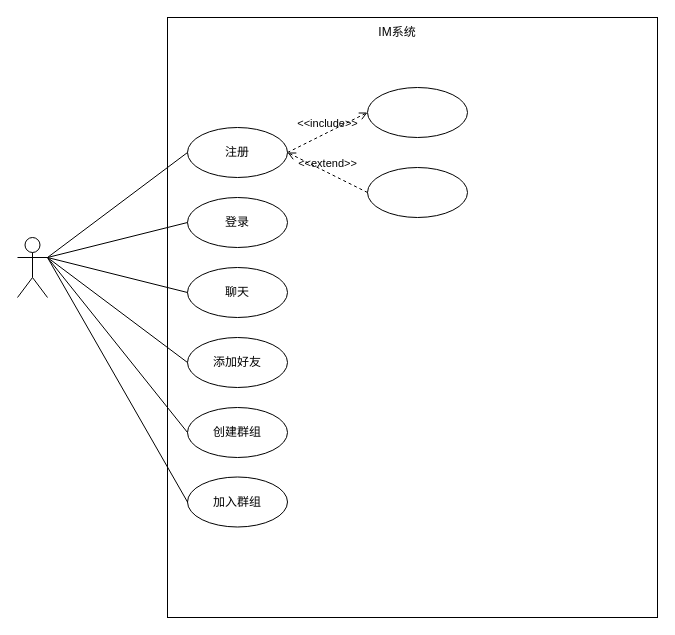
The diagram is 675 pixels wide and 635 high, and some of its shapes have lost their labels. Each missing label, with the centre of its shape:
User: point 32,267
显示错误信息: point 417,192
验证密码: point 417,112
